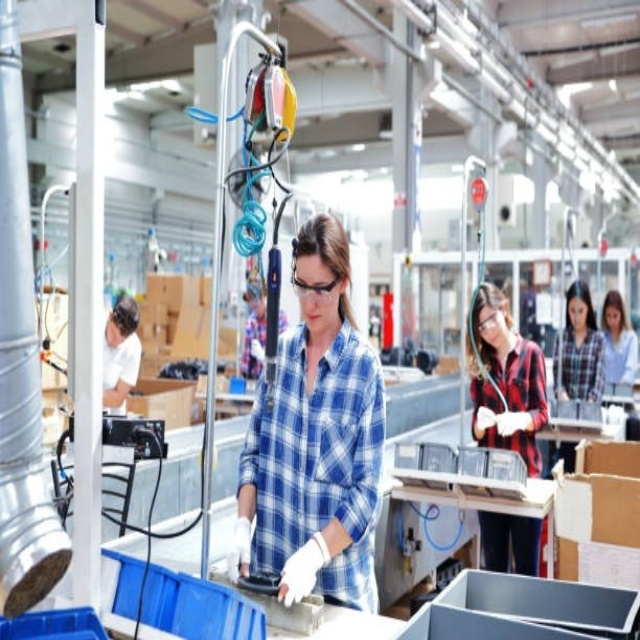Gafas: (294, 262, 341, 301), (475, 307, 503, 334)
Guantes: (278, 535, 323, 605), (226, 513, 258, 588), (496, 408, 533, 439), (474, 403, 495, 431)
Mascara: (245, 60, 298, 146)
Sin_mascara: (301, 307, 327, 328), (483, 328, 501, 350)
